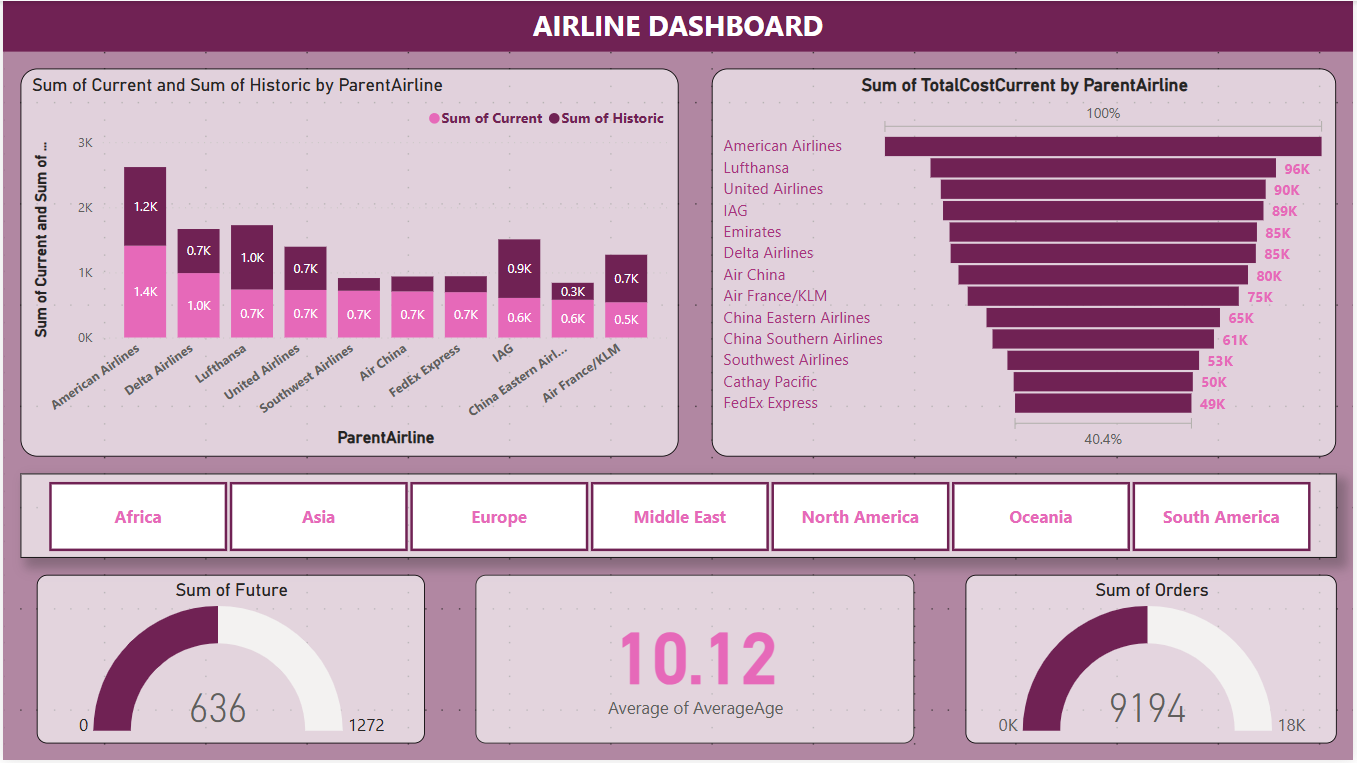

This screenshot's page, from the dashboard's own definition file:
{"tool":"powerbi","page":{"name":"Page 1","canvas":[1280,720],"ordinal":0},"visuals":[{"type":"textbox","box":[0,0,1280,48],"z":0},{"type":"slicer","fields":{"Values":["Fleet_Reg.Region"]},"box":[16,448,1248,80],"z":1000},{"type":"funnel","fields":{"Category":["Fleet_Reg.ParentAirline"],"Y":["Sum(Fleet_Reg.TotalCost(Current))"]},"box":[672,64,592,368],"z":2000},{"type":"gauge","fields":{"Y":["Sum(Fleet_Reg.Future)"]},"box":[32,544,368,160],"z":3000},{"type":"gauge","fields":{"Y":["Sum(Fleet_Reg.Orders)"]},"box":[912,544,352,160],"z":4000},{"type":"card","fields":{"Values":["Avg(Fleet_Reg.AverageAge)"]},"box":[448,544,416,160],"z":5000},{"type":"columnChart","fields":{"Category":["Fleet_Reg.ParentAirline"],"Y":["Sum(Fleet_Reg.Current)","Sum(Fleet_Reg.Historic)"]},"box":[16,64,624,368],"z":6000}]}

Visuals, with their boxes in screenshot pixels (x1, y1, x2, y2), scaled from the page's 1280x720 canvas onto the 1357x763 screenshot:
textbox: (x1=0, y1=0, x2=1356, y2=51)
slicer - Fleet_Reg.Region: (x1=17, y1=475, x2=1340, y2=560)
funnel - Fleet_Reg.ParentAirline x Sum(Fleet_Reg.TotalCost(Current)): (x1=712, y1=68, x2=1340, y2=458)
gauge - Sum(Fleet_Reg.Future): (x1=34, y1=576, x2=424, y2=746)
gauge - Sum(Fleet_Reg.Orders): (x1=967, y1=576, x2=1340, y2=746)
card - Avg(Fleet_Reg.AverageAge): (x1=475, y1=576, x2=916, y2=746)
columnChart - Fleet_Reg.ParentAirline x Sum(Fleet_Reg.Current): (x1=17, y1=68, x2=678, y2=458)
